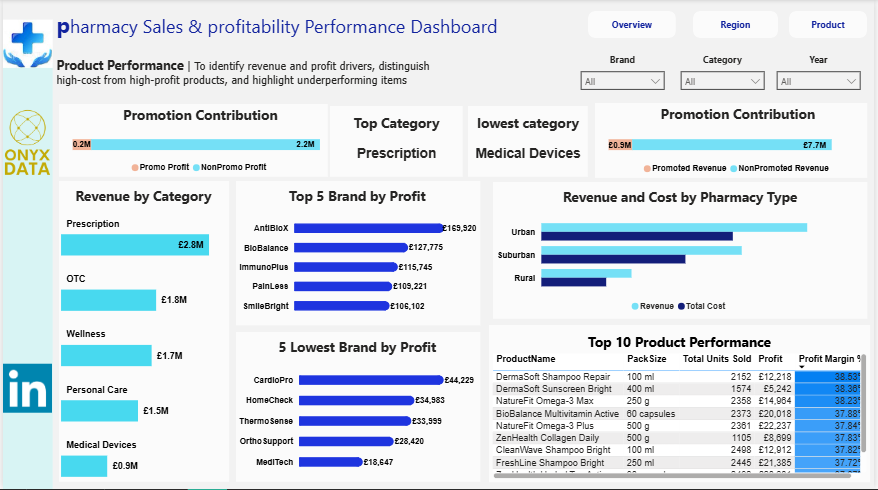

What the dashboard file says about the page in this screenshot:
{"tool":"powerbi","page":{"name":"Product","canvas":[1280,720],"ordinal":2},"visuals":[{"type":"shape","box":[0,94,73.5,626],"z":0},{"type":"image","box":[0,10.3,73.5,110.2],"z":1000},{"type":"barChart","title":"Promotion Contribution","fields":{"Y":["DAX Calculation.Promoted Revenue","DAX Calculation.NonPromoted Revenue"]},"box":[869.9,152.8,399.7,110.2],"z":2000},{"type":"tableEx","title":"Top 10 Product Performance ","fields":{"Values":["Products.ProductName","Products.PackSize","DAX Calculation.Total Units","DAX Calculation.Profit","DAX Calculation.Profit Margin %"]},"box":[714.1,479,559.8,230.7],"z":3000},{"type":"textbox","box":[73.5,10.3,667.1,55.8],"z":4000},{"type":"textbox","box":[73.5,79.3,583.3,66.1],"z":5000},{"type":"slicer","title":"Brand","fields":{"Values":["Pharmacy.Country"]},"box":[839,79.3,142.5,66.1],"z":6000},{"type":"card","title":"lowest category","fields":{"Values":["DAX Calculation.Bottom Category"]},"box":[683.3,157.2,176.3,104.3],"z":7000},{"type":"slicer","title":"Category","fields":{"Values":["Products.Category"]},"box":[986,79.3,142.5,66.1],"z":8000},{"type":"card","title":"Top Category","fields":{"Values":["DAX Calculation.Top Category"]},"box":[480.5,157.2,195.4,104.3],"z":9000},{"type":"slicer","title":"Year","fields":{"Values":["Date.Year"]},"box":[1127,79.3,142.5,66.1],"z":10000},{"type":"actionButton","box":[1154.9,17.6,114.6,39.7],"z":11000},{"type":"actionButton","box":[1013.9,17.6,124.9,39.7],"z":12000},{"type":"actionButton","box":[859.6,17.6,129.3,39.7],"z":13000},{"type":"image","box":[0,154.3,72,113.1],"z":14000},{"type":"image","box":[0,531.9,72,80.8],"z":15000},{"type":"clusteredBarChart","title":"Revenue by Category","fields":{"Category":["Products.Category"],"Y":["DAX Calculation.Labels Placeholder","DAX Calculation.Revenue"]},"box":[82.3,267.4,249.8,442.3],"z":16000},{"type":"clusteredBarChart","title":"Top 5 Brand by Profit","fields":{"Category":["Products.Brand"],"Y":["DAX Calculation.Total Profit"]},"box":[342.4,267.4,358.5,211.6],"z":17000},{"type":"clusteredBarChart","title":"5 Lowest Brand by Profit","fields":{"Category":["Products.Brand"],"Y":["DAX Calculation.Total Profit"]},"box":[342.4,489.3,358.5,220.4],"z":18000},{"type":"barChart","title":"Promotion Contribution","fields":{"Y":["DAX Calculation.Promo Profit","DAX Calculation.NonPromo Profit"]},"box":[82.3,154.3,395.3,107.3],"z":19000},{"type":"clusteredBarChart","title":"Revenue and  Cost by Pharmacy Type","fields":{"Category":["Pharmacy.PharmacyType"],"Y":["DAX Calculation.Revenue","DAX Calculation.Total Cost"]},"box":[720,268.9,549.6,201.3],"z":20000}]}

Visuals, with their boxes in screenshot pixels (x1, y1, x2, y2), scaled from the page's 1280x720 canvas onto the 878x490 screenshot:
shape: 0, 64, 50, 489
image: 0, 7, 50, 82
"Promotion Contribution" barChart: 597, 104, 871, 179
"Top 10 Product Performance " tableEx: 490, 326, 874, 483
textbox: 50, 7, 508, 45
textbox: 50, 54, 451, 99
"Brand" slicer: 576, 54, 673, 99
"lowest category" card: 469, 107, 590, 178
"Category" slicer: 676, 54, 774, 99
"Top Category" card: 330, 107, 464, 178
"Year" slicer: 773, 54, 871, 99
actionButton: 792, 12, 871, 39
actionButton: 695, 12, 781, 39
actionButton: 590, 12, 678, 39
image: 0, 105, 49, 182
image: 0, 362, 49, 417
"Revenue by Category" clusteredBarChart: 56, 182, 228, 483
"Top 5 Brand by Profit" clusteredBarChart: 235, 182, 481, 326
"5 Lowest Brand by Profit" clusteredBarChart: 235, 333, 481, 483
"Promotion Contribution" barChart: 56, 105, 328, 178
"Revenue and  Cost by Pharmacy Type" clusteredBarChart: 494, 183, 871, 320
